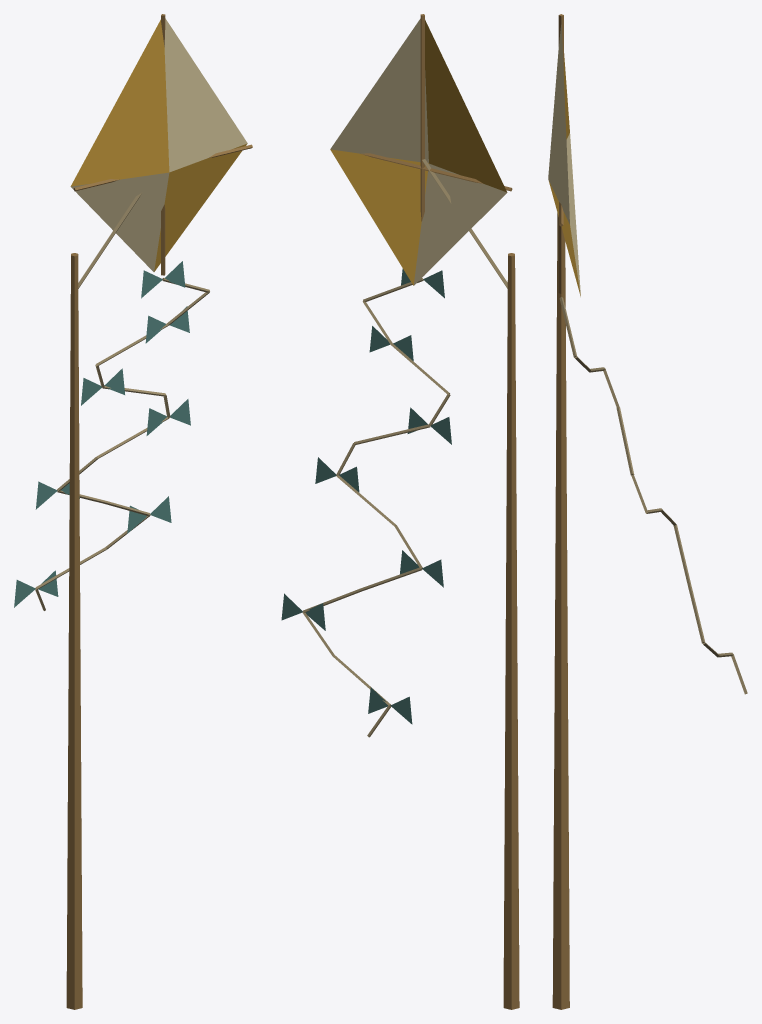
File: meadow_kite.glb
3 views of the same model, side by side, from view 1: azimuth 30°, elevation 25°; view 2: azimuth 150°, elevation 25°; view 3: azimuth 270°, elevation 25° (orthographic). The views are drawn at different scales.
Parts seen in each view (by area): view 1: meadow_kite_kite, meadow_kite_body; view 2: meadow_kite_kite, meadow_kite_body; view 3: meadow_kite_body, meadow_kite_kite.
Boxes of the visible parts, x1,y1,x2,y2 form: meadow_kite_kite: (14,14,252,610); meadow_kite_body: (66,193,141,1009); meadow_kite_kite: (281,14,512,737); meadow_kite_body: (422,159,519,1009); meadow_kite_body: (552,213,569,1009); meadow_kite_kite: (548,14,747,694).
Size of the model in its own units: 2.09 by 10.45 by 1.82.
